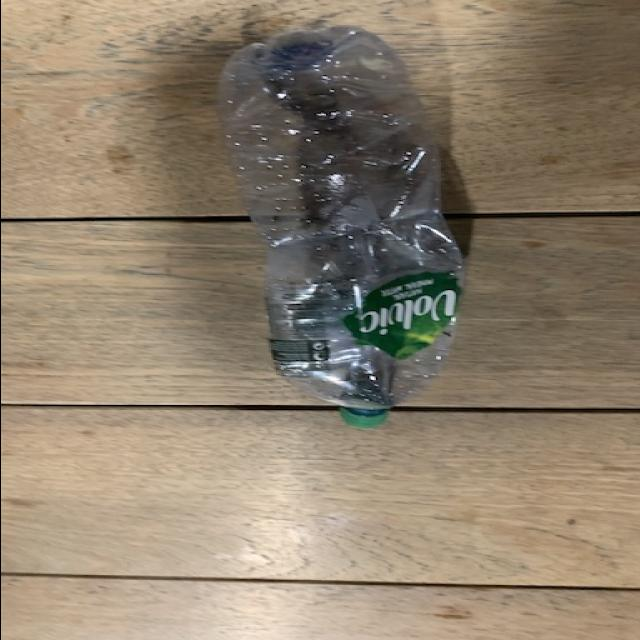PET: (213, 21, 470, 430)
